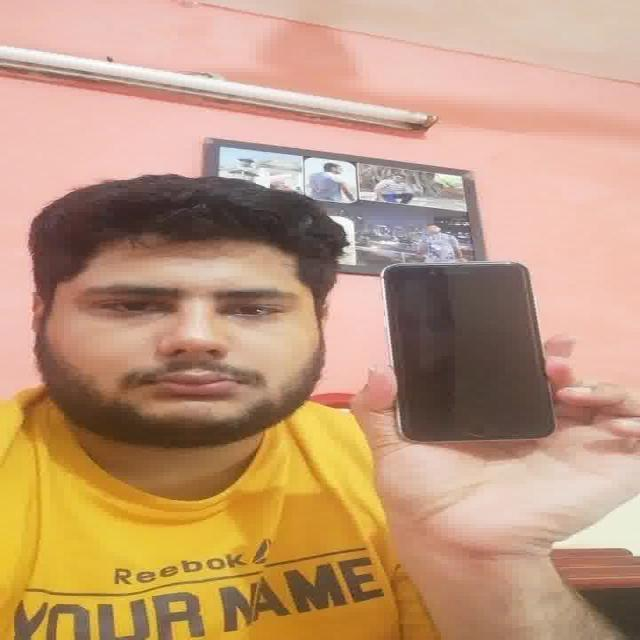Phone: (379, 260, 558, 442)
